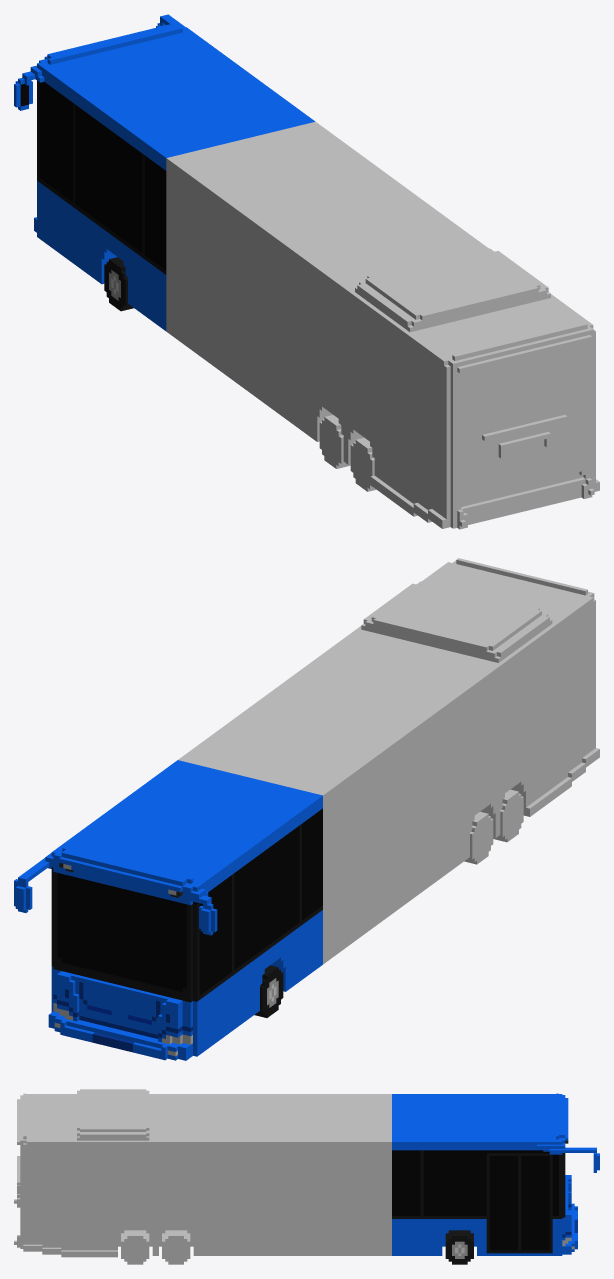
File: bus.fbx
3 views of the same model, one above another, from view 1: azimuth 30°, elevation 25°; view 2: azimuth 150°, elevation 25°; view 3: azimuth 270°, elevation 25° (orthographic). The views are drawn at different scales.
Visible parts, largest first — view 1: bus-1; view 2: bus-1; view 3: bus-1.
Part boxes in pixels (x1,y1,x2,y2): bus-1: (14, 14, 599, 529); bus-1: (14, 558, 599, 1060); bus-1: (14, 1089, 599, 1264).
Size of the model in its own units: 440 by 460 by 1860.
